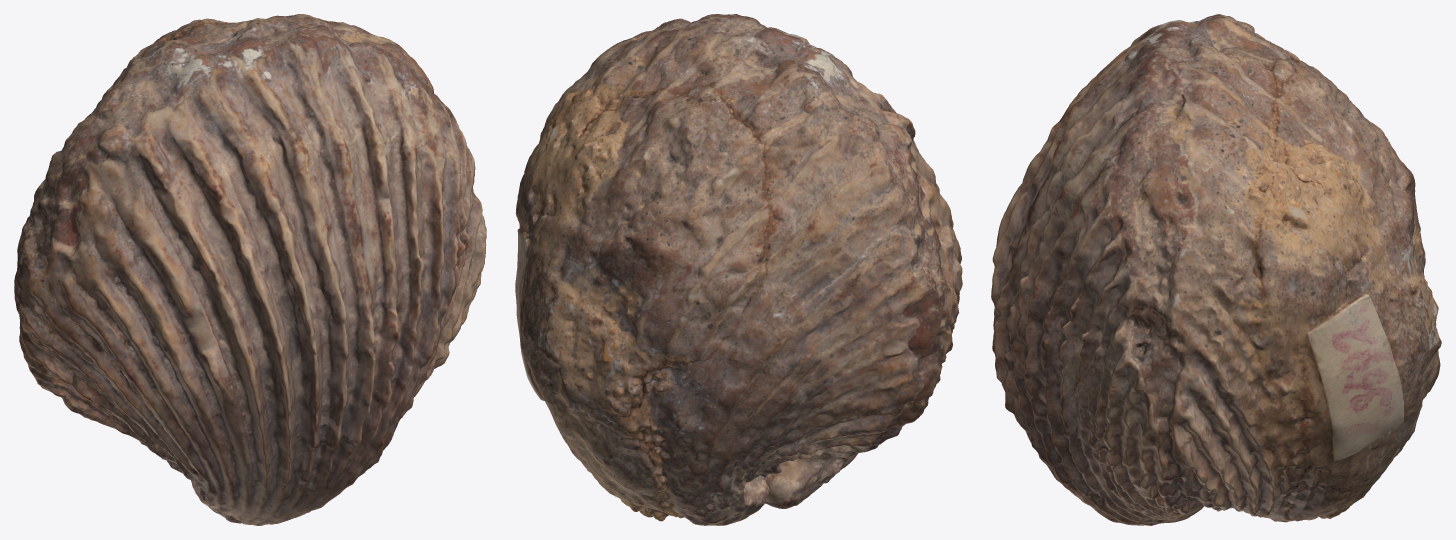
Rendered from EWS0012743.glb.
3 renders of one model, left to right at view 1: azimuth 30°, elevation 25°; view 2: azimuth 150°, elevation 25°; view 3: azimuth 270°, elevation 25°, orthographic. The views are drawn at different scales.
Visible parts, largest first — view 1: input; view 2: input; view 3: input.
Boxes of the visible parts, x1,y1,x2,y2 form: input: [14, 14, 486, 525]; input: [515, 14, 962, 525]; input: [991, 14, 1441, 525].
Size of the model in its own units: 0.0336 by 0.0354 by 0.0297.
1 material, 1 textured.
